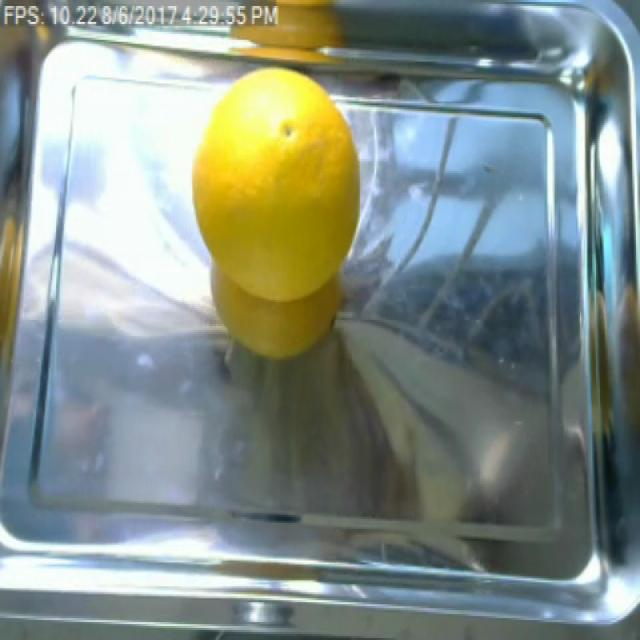Fruit: (185, 51, 367, 368), (216, 0, 363, 62)
